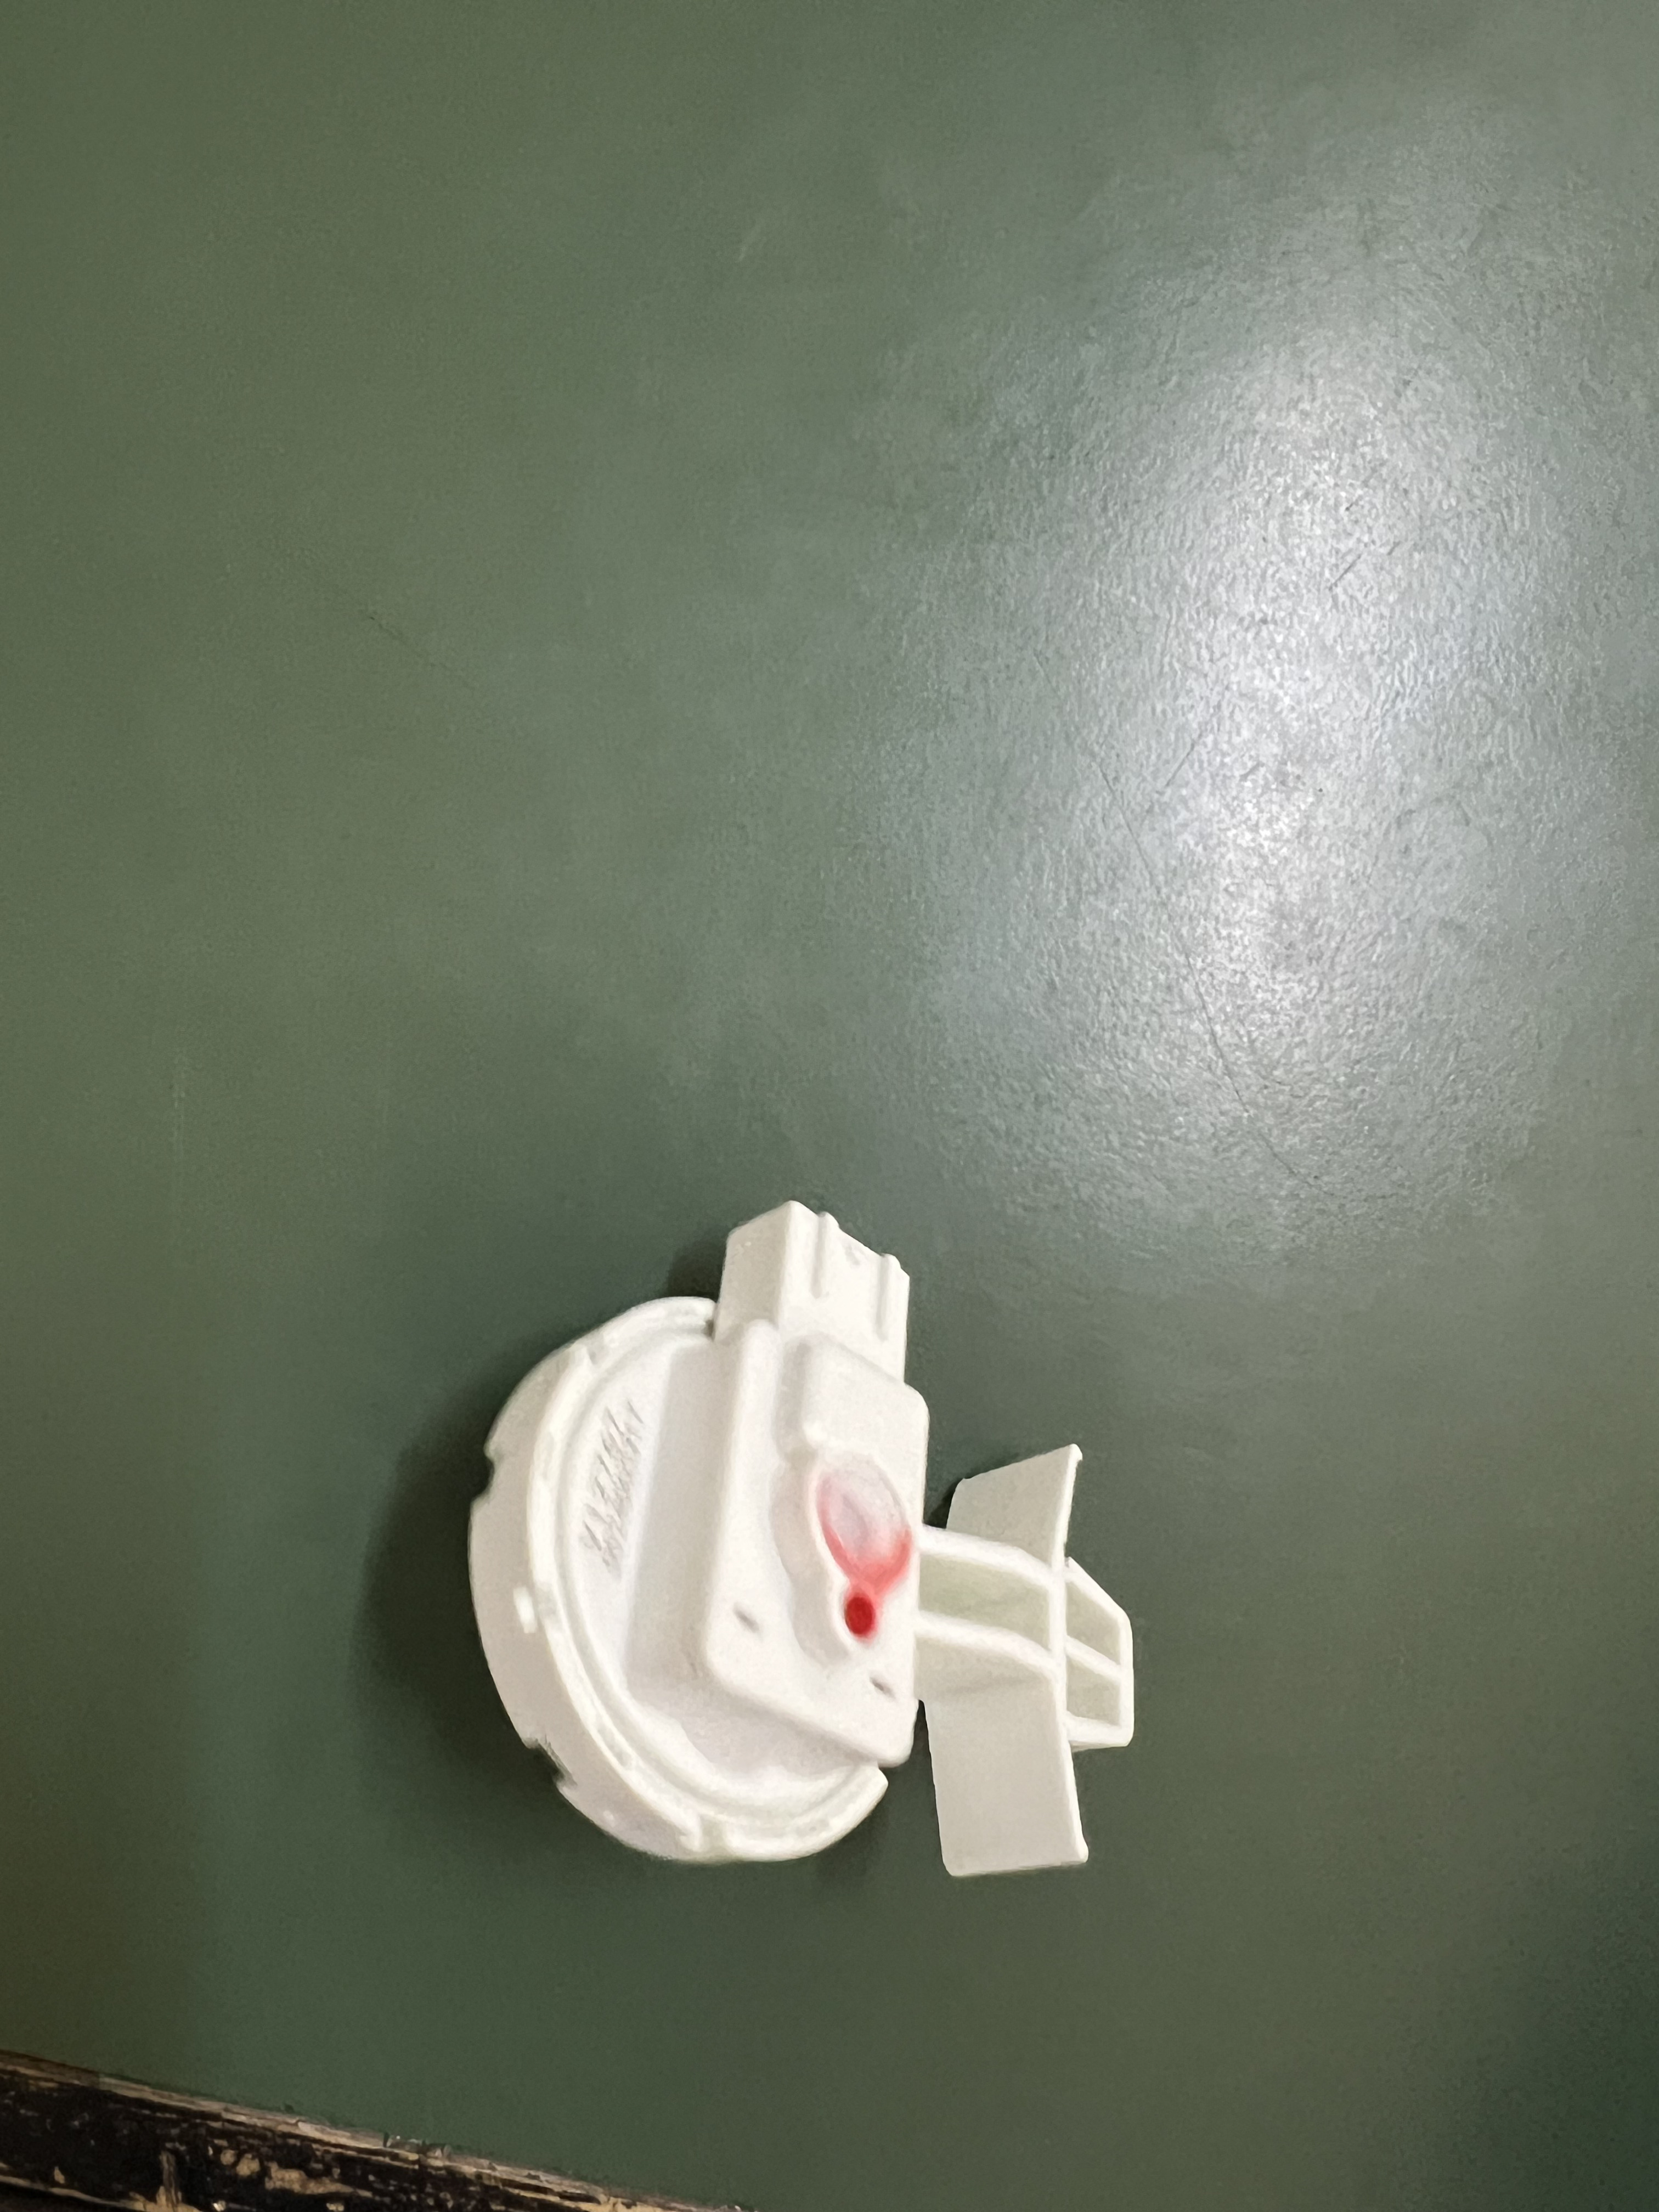pressure_switch_2: (465, 1204, 1182, 1930)
